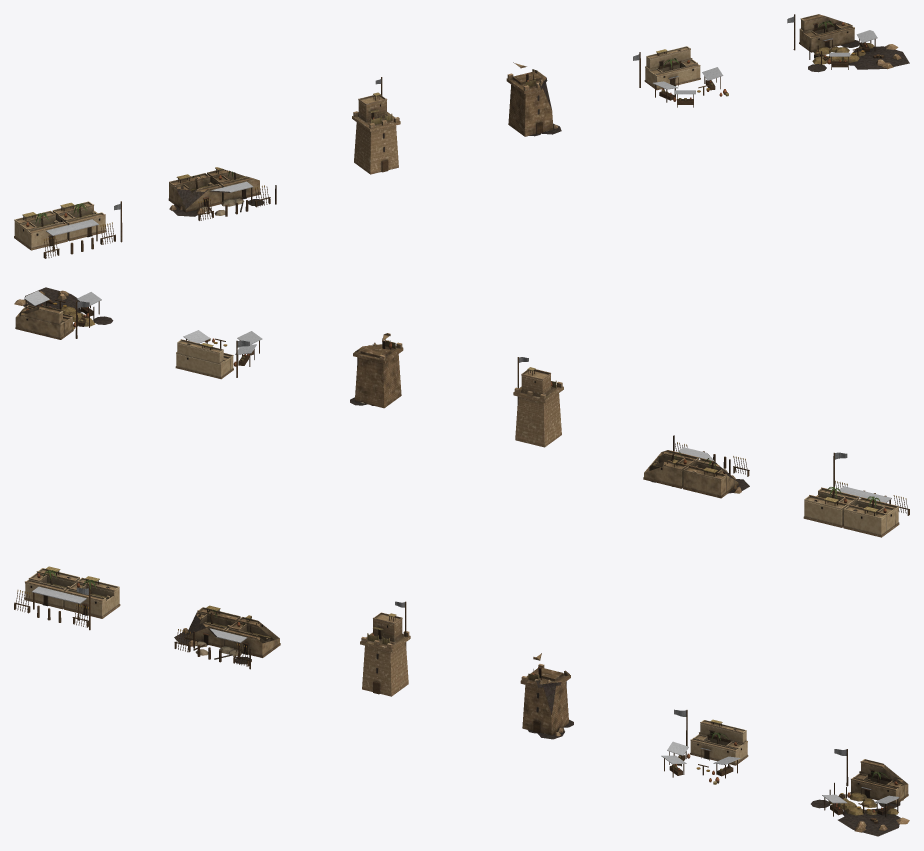
The model's file is rts-bronze-mesopotamia.glb.
3 renders of one model, top to bottom at view 1: azimuth 30°, elevation 25°; view 2: azimuth 150°, elevation 25°; view 3: azimuth 330°, elevation 25°, orthographic. The views are drawn at different scales.
Parts seen in each view (by area): view 1: LOD0.005, LOD0.001, LOD0, LOD0.002, LOD0.004, LOD0.003; view 2: LOD0, LOD0.001, LOD0.005, LOD0.002, LOD0.003, LOD0.004; view 3: LOD0.005, LOD0.001, LOD0, LOD0.002, LOD0.004, LOD0.003.
Boxes of the visible parts, x1,y1,x2,y2 form: LOD0.005: (787, 14, 909, 72); LOD0.001: (168, 167, 276, 220); LOD0: (14, 201, 122, 258); LOD0.002: (352, 77, 400, 174); LOD0.004: (633, 46, 728, 107); LOD0.003: (506, 62, 561, 136); LOD0: (803, 452, 909, 537); LOD0.001: (643, 435, 749, 498); LOD0.005: (14, 287, 113, 339); LOD0.002: (513, 357, 563, 447); LOD0.003: (350, 333, 403, 408); LOD0.004: (175, 330, 262, 379); LOD0.005: (811, 749, 909, 836); LOD0.001: (174, 605, 280, 669); LOD0: (14, 566, 120, 630); LOD0.002: (360, 601, 410, 696); LOD0.004: (661, 709, 748, 784); LOD0.003: (520, 653, 573, 739).
Size of what is drawn, in the model's own units: 16.68 by 1.48 by 1.62.
Materials: 2 (2 with a texture image).
